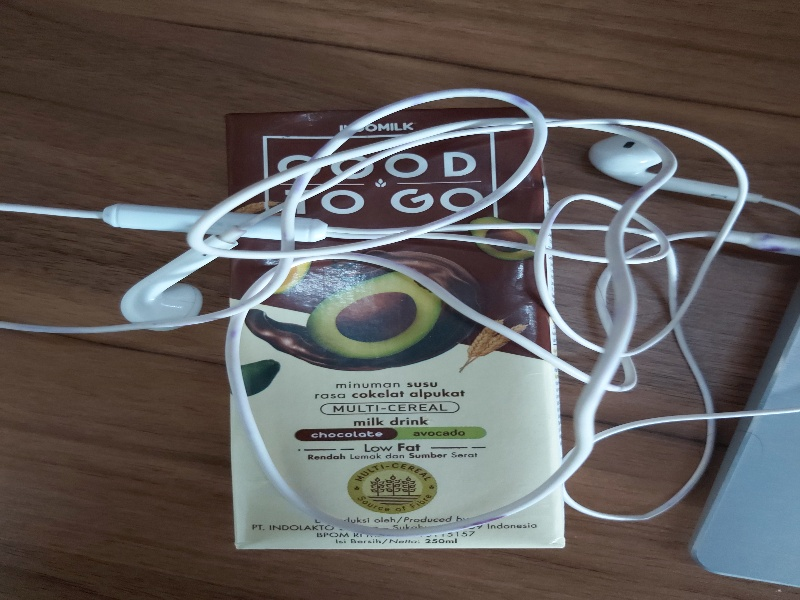cokelat: (223, 108, 570, 553)
